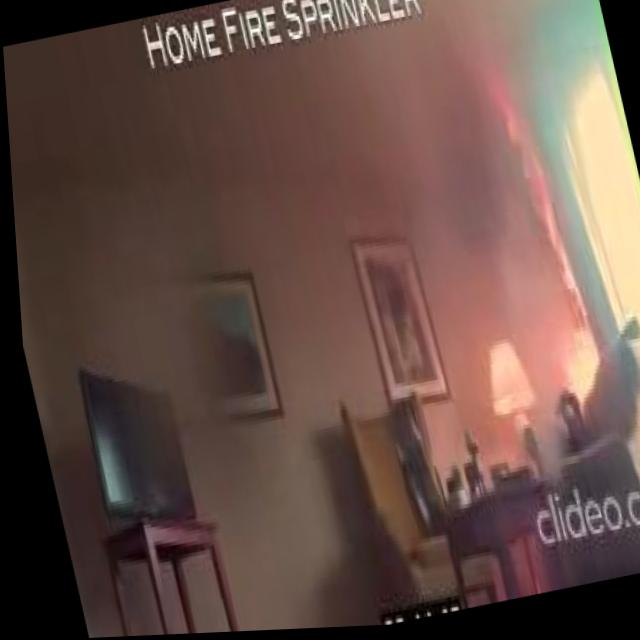fire: (477, 73, 604, 406)
